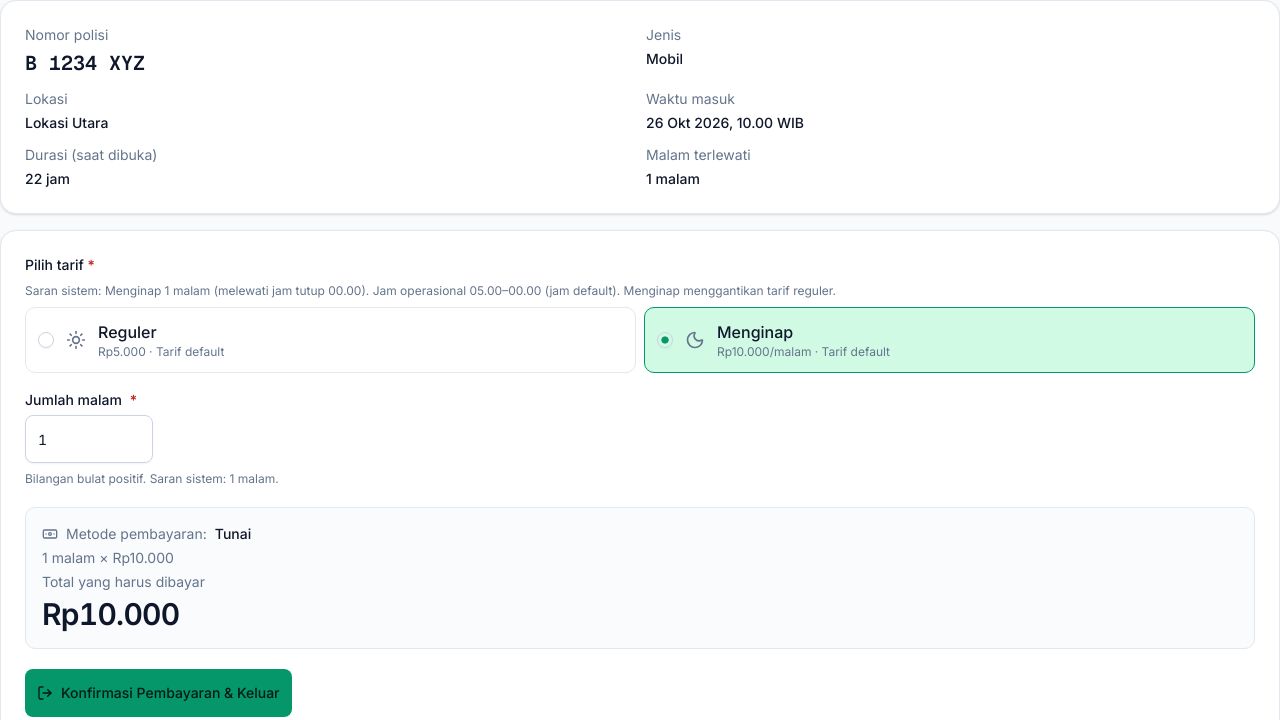
Scenario: details and calculation (display only) › invalid night count  blocks confirmation
Step 1. Clear the field labelled "Jumlah malam *" → (89, 439), box [25,415,153,463]
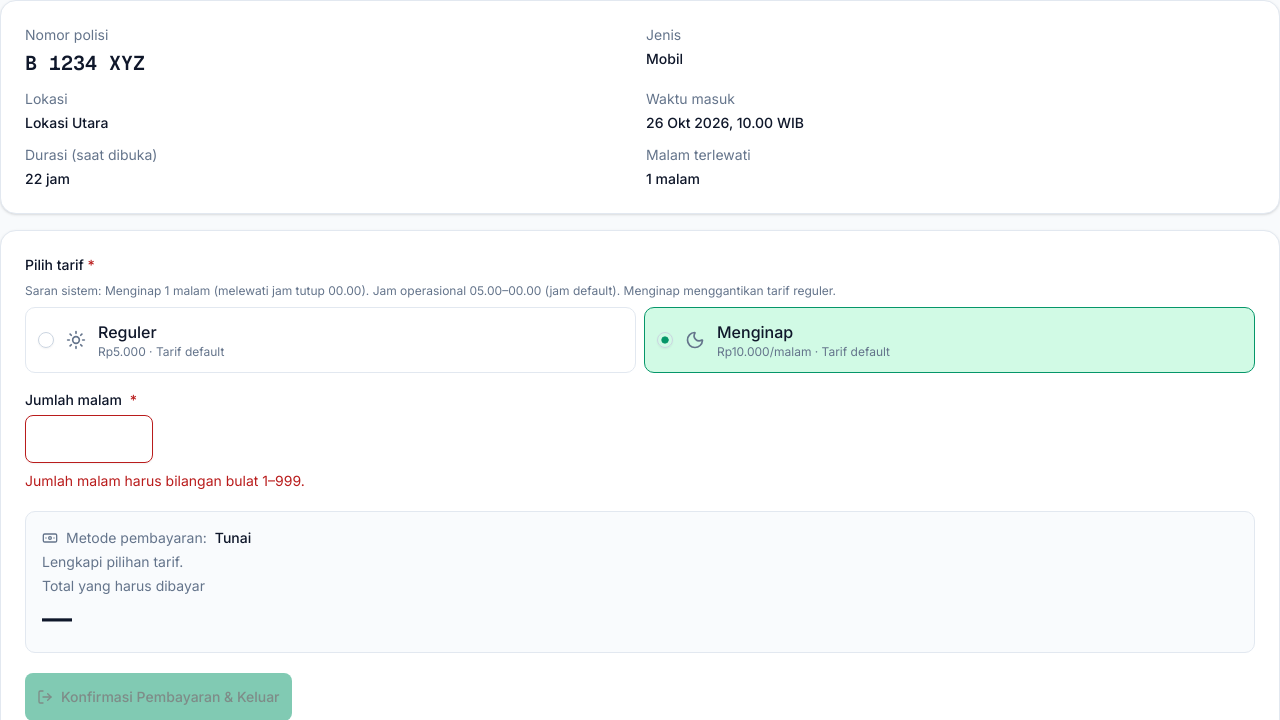
expect the message shows "bilangan bulat": met, box [25,472,305,489]
expect the button "Konfirmasi Pembayaran & Keluar" is disabled: met, box [25,673,292,719]
